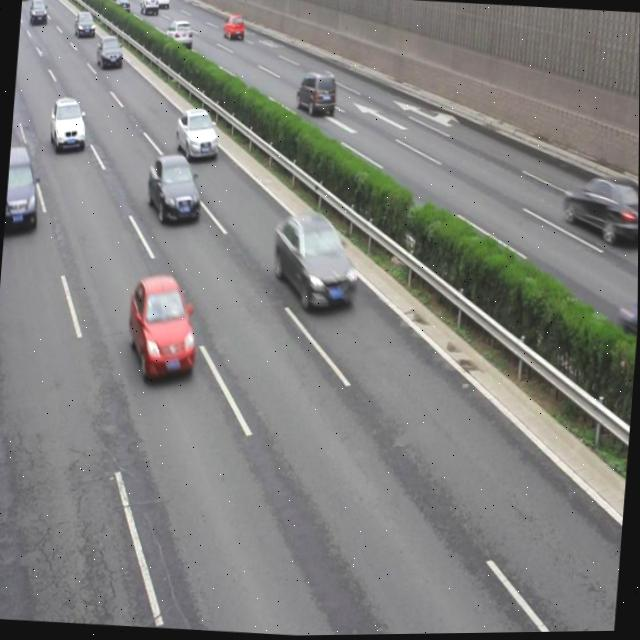car: (270, 212, 360, 312), (126, 273, 197, 381), (561, 176, 639, 245), (145, 153, 203, 226), (5, 146, 42, 229), (174, 107, 220, 159), (48, 95, 87, 151), (295, 69, 338, 118), (96, 33, 123, 66), (163, 19, 192, 48), (74, 9, 95, 38), (222, 12, 243, 40)
